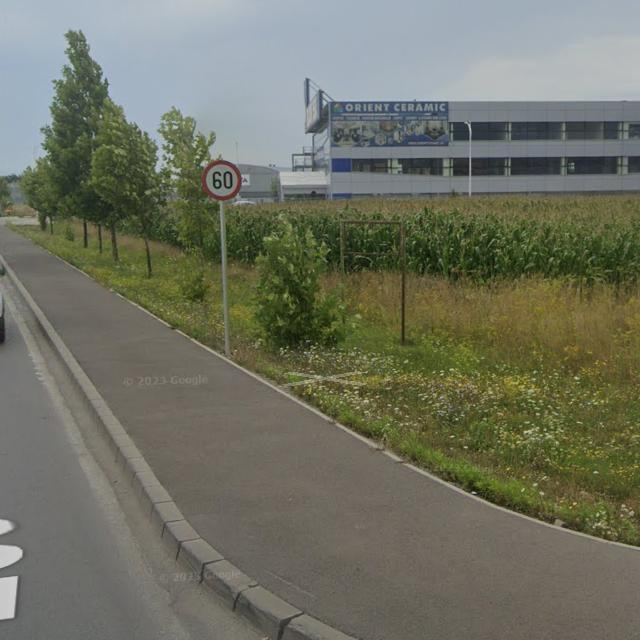forb_speed_over_60: (202, 159, 242, 201)
